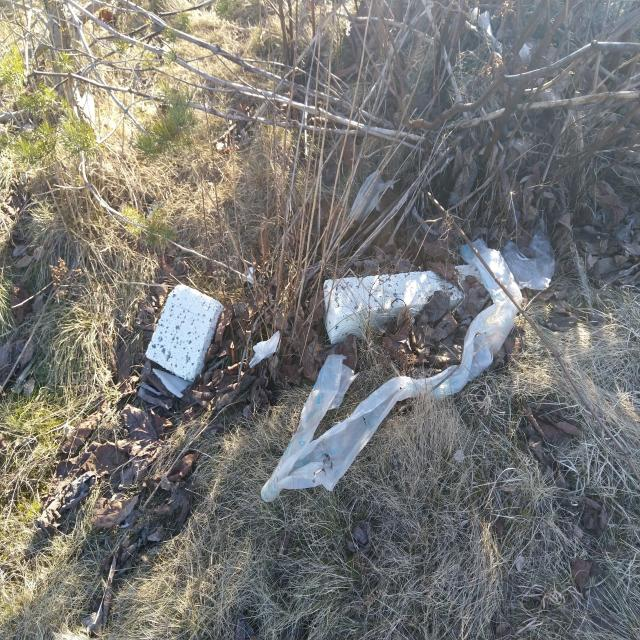litter: (261, 239, 522, 502), (323, 265, 483, 344), (146, 284, 225, 381), (502, 220, 555, 290), (349, 170, 400, 225), (153, 368, 194, 398), (248, 330, 280, 368), (477, 11, 497, 44), (519, 44, 530, 62)
